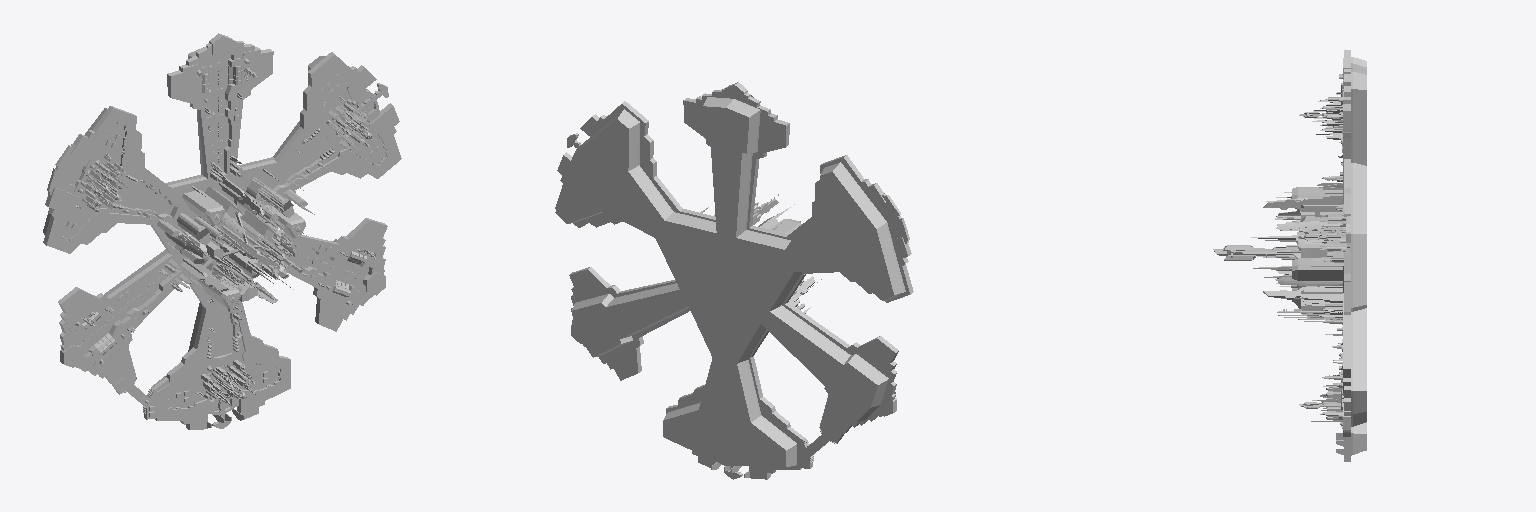
File: hatak.obj
The picture shows the model from 3 angles: view 1: azimuth 30°, elevation 25°; view 2: azimuth 150°, elevation 25°; view 3: azimuth 270°, elevation 25°; orthographic projection.
Size of the model in its own units: 8.25 by 8.76 by 3.49.